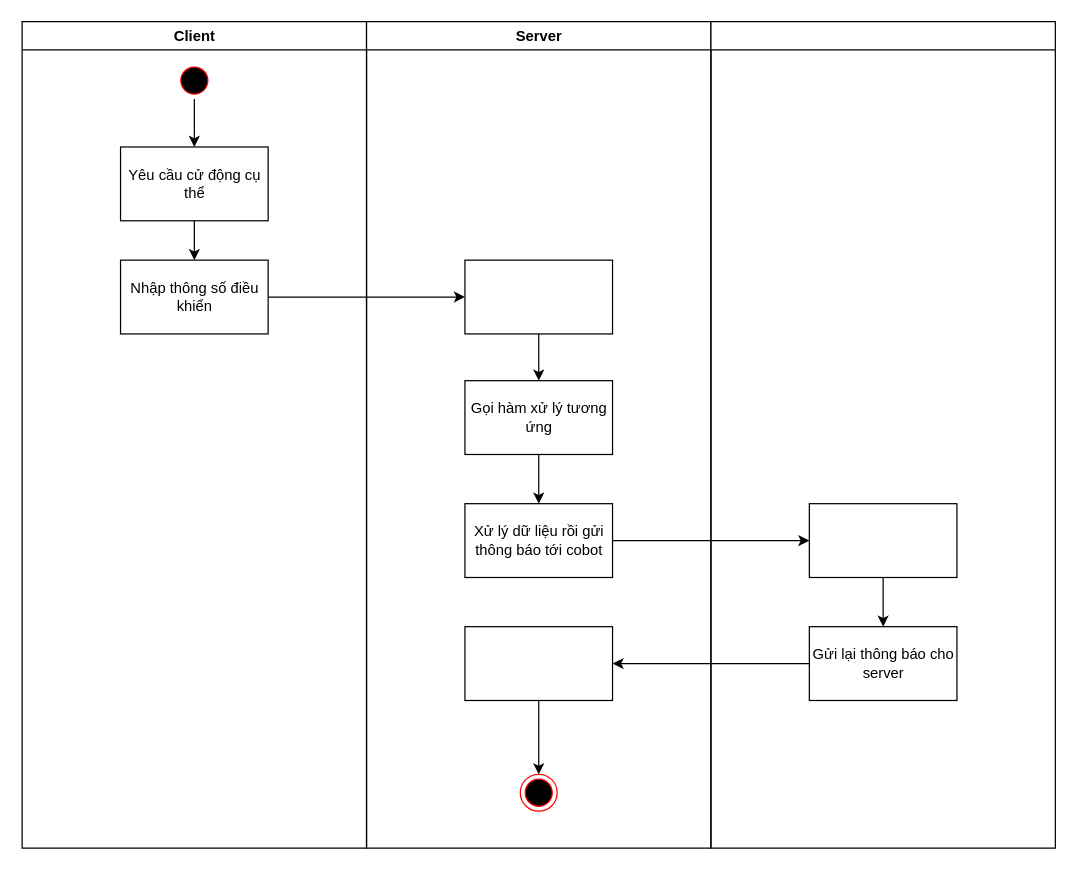
This 1076x870 diagram has some shape labels left out. Here are the shapes that lost their labels. From the top down, the box of each, then its label:
(464, 259, 613, 334): Nhận thông tin
(710, 20, 1055, 848): Cobot
(808, 502, 957, 577): Nhận thông báo từ server và thực hiện hành động với thông số nhận được
(464, 625, 613, 700): Nhận thông báo
